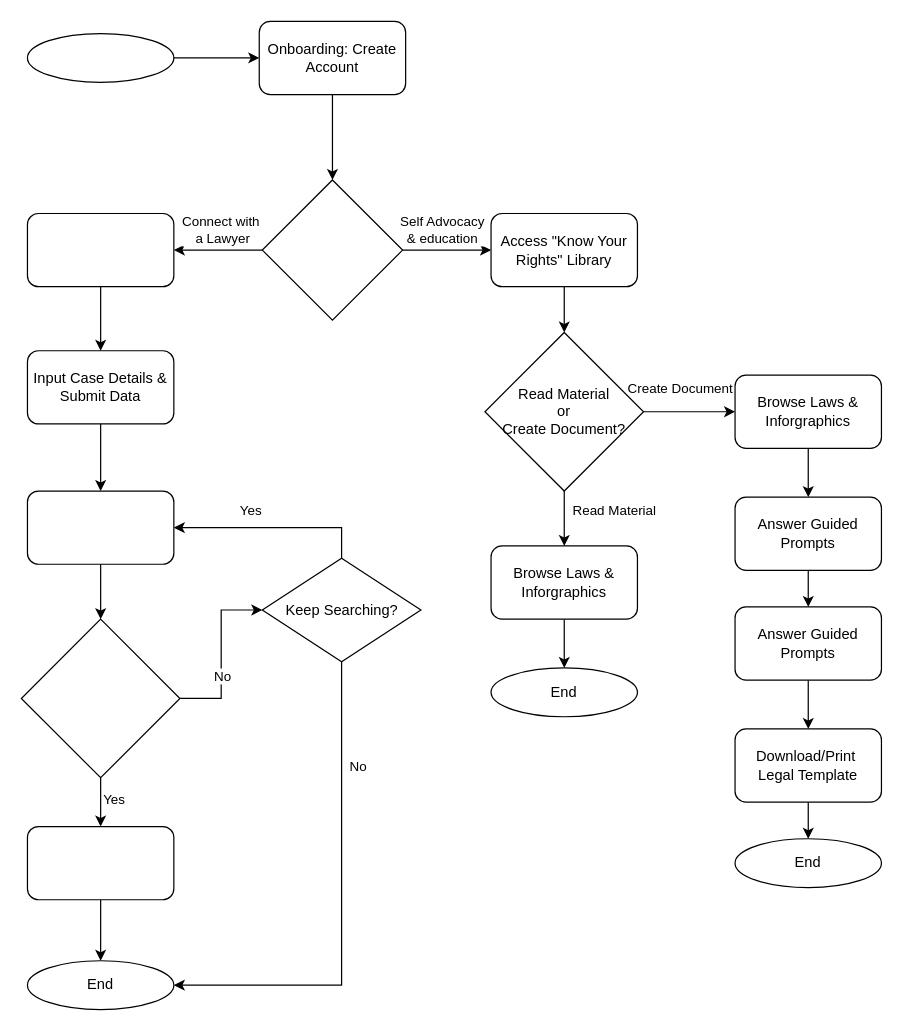
Some shapes in this 903 by 1031 pixel diagram are drawn without their labels. Each missing label, with the centre of its shape:
"Lawyer Accepted Case?" belongs at pixel 100 698.
"Match Confirmed" belongs at pixel 100 862.
"Searching for Lawyer" belongs at pixel 100 527.
"Smart Legal Triage Questionnaire" belongs at pixel 100 249.
"Start" belongs at pixel 100 57.
"What do you need help with?" belongs at pixel 332 249.
